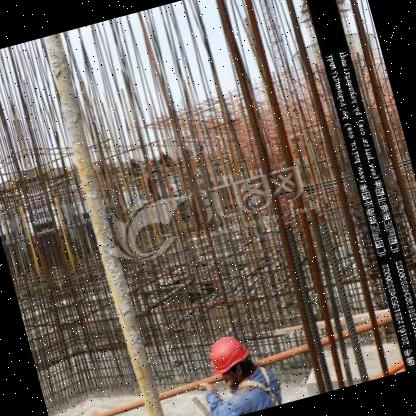capacete: (204, 324, 258, 382)
